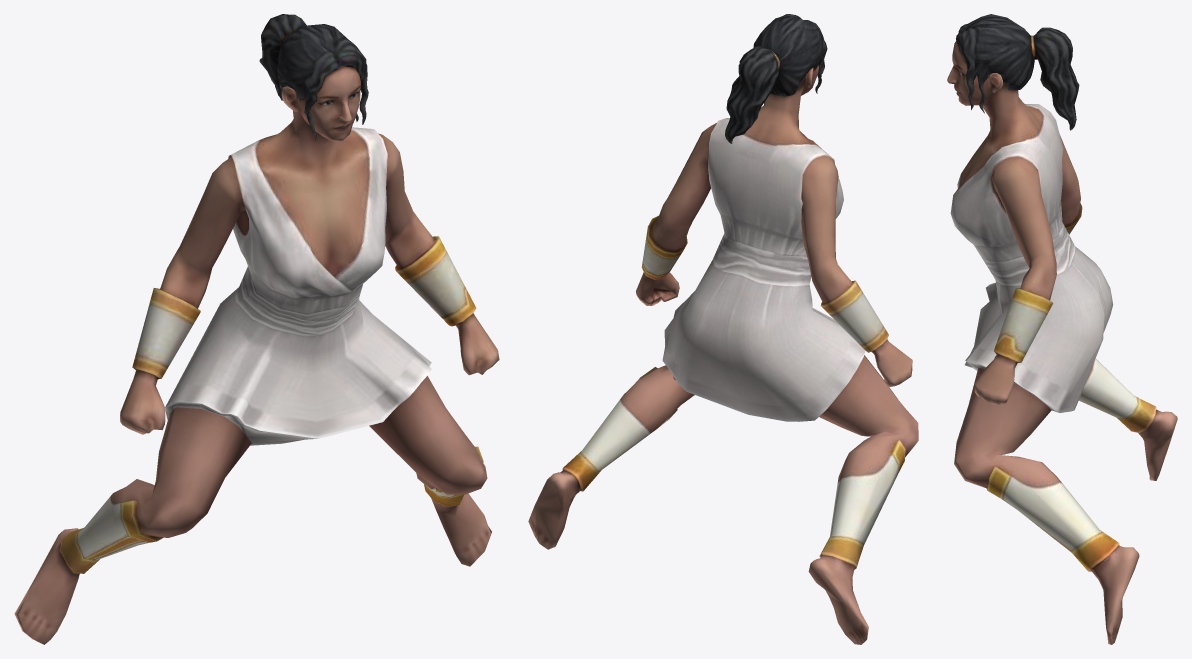
File: rider-slice-base.glb
3 views of the same model, side by side, from view 1: azimuth 30°, elevation 25°; view 2: azimuth 150°, elevation 25°; view 3: azimuth 270°, elevation 25° (orthographic). The views are drawn at different scales.
Bounding box in the file's own units: 1.31 × 1.81 × 0.7081.
Materials: 1 (1 with a texture image).
